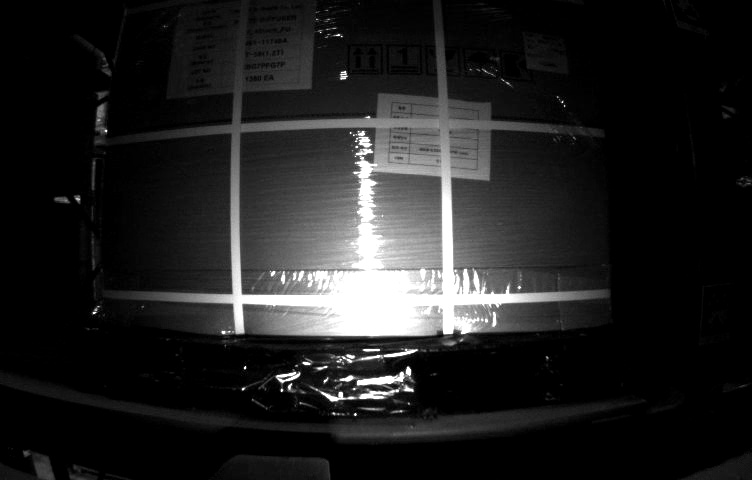True Barcode: (524, 33, 569, 71)
